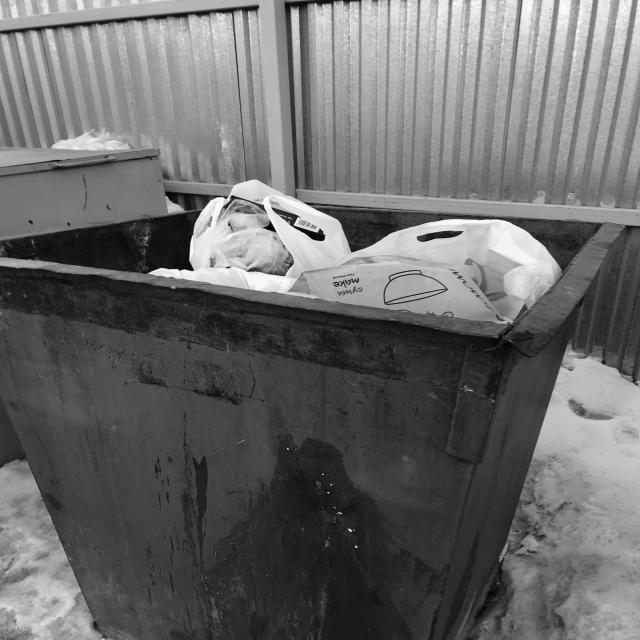Trashcan: (0, 163, 640, 640)
